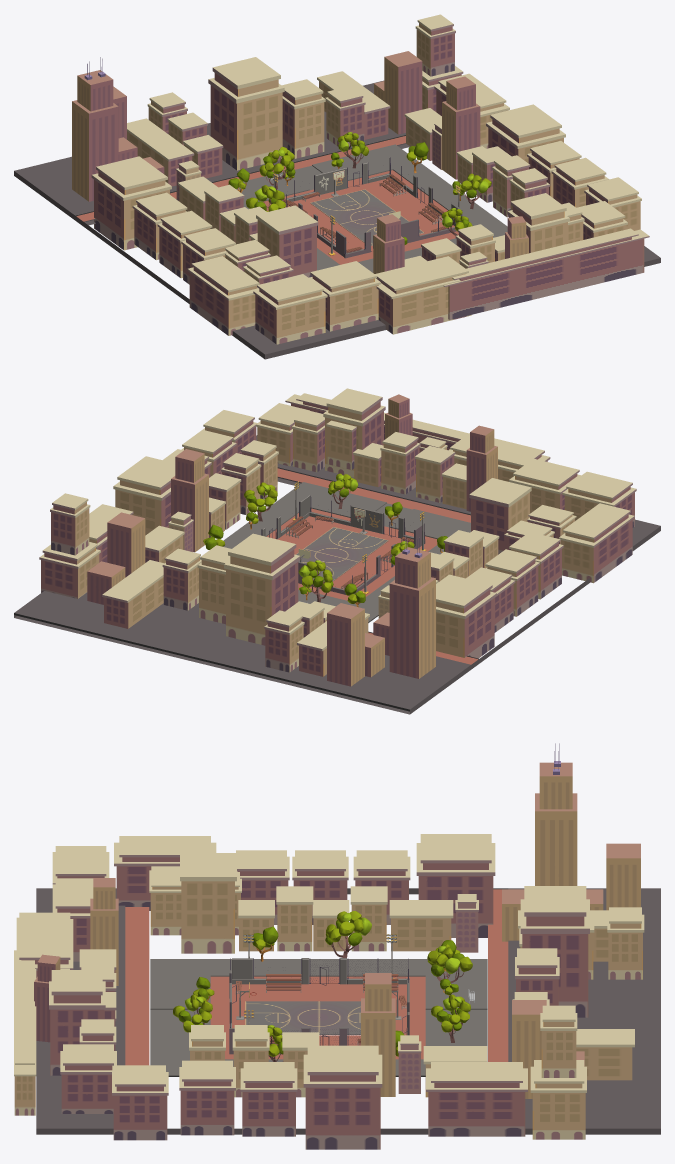
The model's file is BasketballNew.fbx.
3 renders of one model, top to bottom at view 1: azimuth 30°, elevation 25°; view 2: azimuth 150°, elevation 25°; view 3: azimuth 270°, elevation 25°, orthographic. The views are drawn at different scales.
Parts seen in each view (by area): view 1: Basketball; view 2: Basketball; view 3: Basketball.
Part boxes in pixels (<box>): Basketball: <box>14,14,660,359</box>; Basketball: <box>14,388,660,714</box>; Basketball: <box>14,743,660,1149</box>.
Size of the model in its own units: 6077 by 2023 by 6616.
